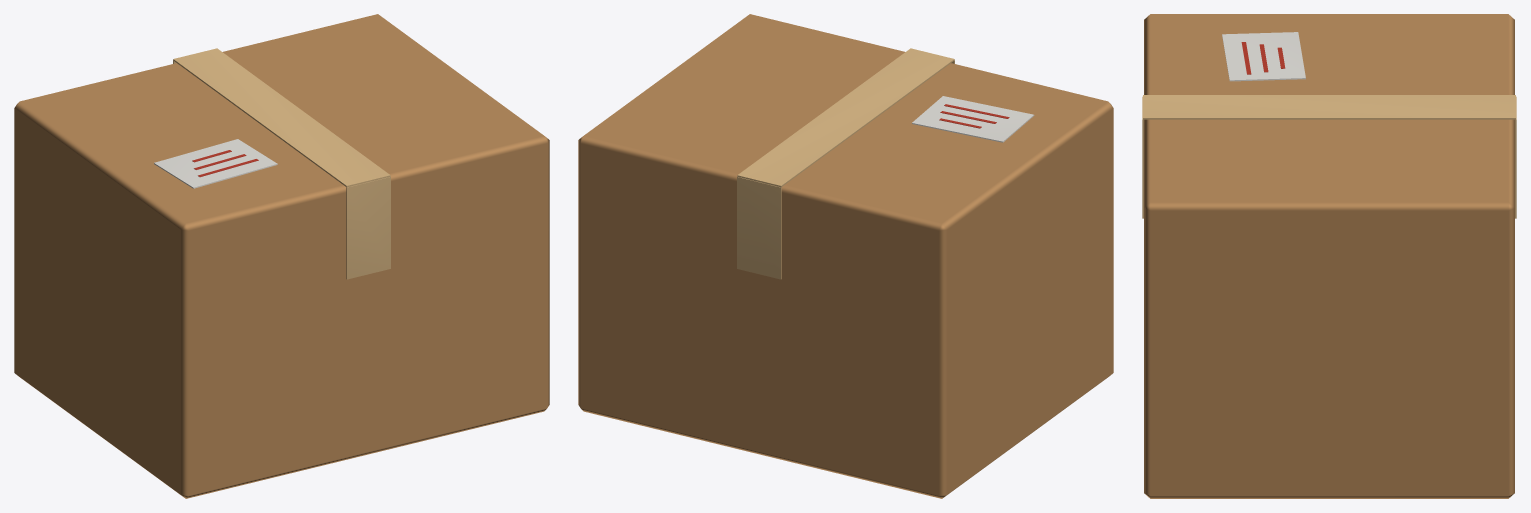
File: parcel.glb
3 views of the same model, side by side, from view 1: azimuth 30°, elevation 25°; view 2: azimuth 150°, elevation 25°; view 3: azimuth 270°, elevation 25° (orthographic). The views are drawn at different scales.
Visible parts, largest first — view 1: parcel; view 2: parcel; view 3: parcel.
Part boxes in pixels (box(x1,y1,x2,y2)): parcel: box(14, 14, 549, 498); parcel: box(578, 14, 1113, 498); parcel: box(1142, 14, 1516, 498).
Bounding box in the file's own units: 0.42 × 0.3016 × 0.3432.
